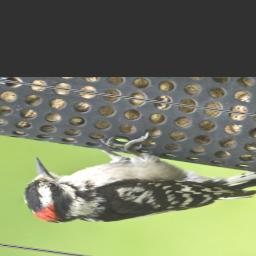Woodpecker: (12, 121, 256, 252)
